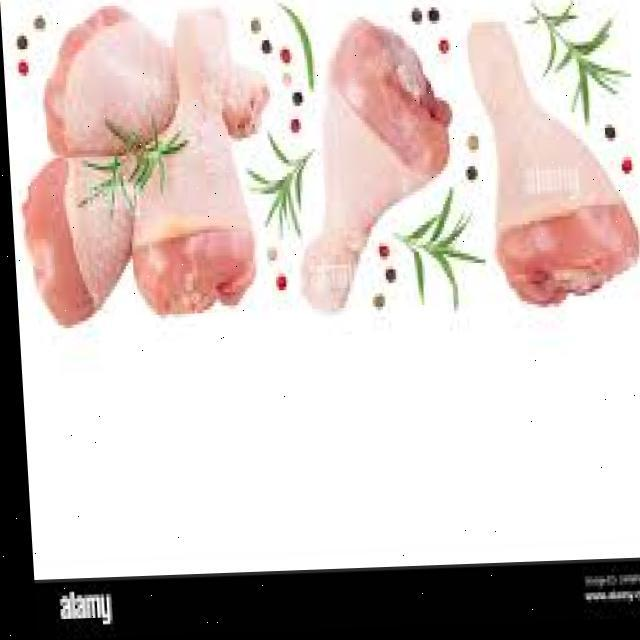leg: (462, 20, 635, 308), (308, 20, 448, 325), (129, 9, 259, 313), (12, 135, 218, 314), (38, 5, 260, 162)
